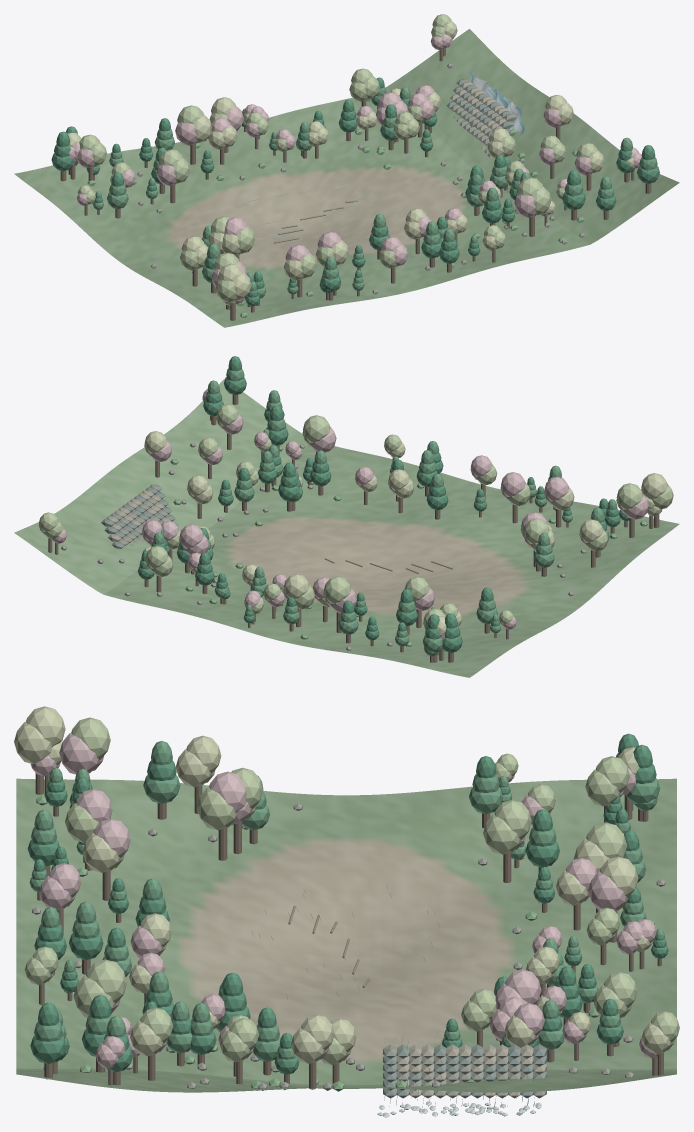
The model's file is jiuzhaigou-spring.glb.
The picture shows the model from 3 angles, top to bottom: view 1: azimuth 30°, elevation 25°; view 2: azimuth 150°, elevation 25°; view 3: azimuth 270°, elevation 25°; orthographic projection. The views are drawn at different scales.
Parts seen in each view (by area): view 1: terrain, world; view 2: terrain, world; view 3: terrain, world.
Part boxes in pixels (x1,y1,x2,y2): terrain: [14, 29, 679, 327]; world: [51, 14, 659, 320]; terrain: [14, 379, 679, 677]; world: [38, 356, 673, 662]; terrain: [16, 778, 676, 1092]; world: [14, 706, 679, 1117].
Size of the model in its own units: 30 by 5.94 by 24.19.
